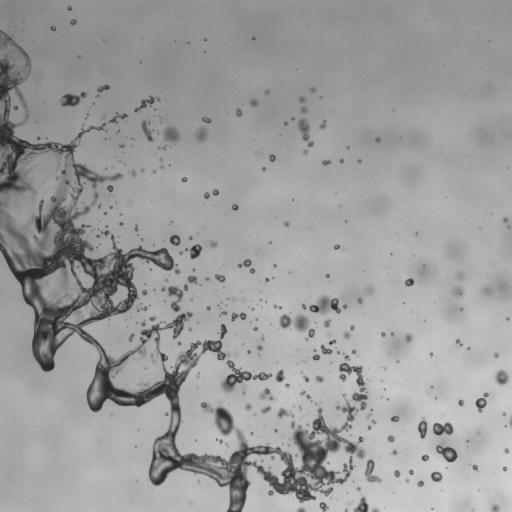droplet: (161, 275, 197, 311), (308, 295, 341, 314), (353, 496, 379, 511), (436, 445, 457, 462), (163, 125, 180, 144), (475, 392, 488, 412), (433, 422, 453, 435), (238, 259, 254, 273), (495, 369, 509, 385), (187, 244, 201, 258), (259, 388, 275, 400), (277, 407, 293, 418), (196, 126, 207, 141), (169, 234, 180, 245), (453, 286, 464, 297), (275, 370, 285, 382), (430, 471, 442, 481), (321, 345, 332, 354), (214, 274, 225, 282), (319, 502, 328, 511), (404, 333, 412, 343), (312, 349, 319, 360), (405, 278, 414, 286), (261, 406, 271, 413), (365, 286, 373, 294), (482, 287, 490, 295), (315, 375, 323, 383), (319, 120, 326, 129), (421, 454, 429, 461), (491, 504, 499, 511), (202, 117, 211, 123), (250, 99, 257, 106), (343, 331, 350, 338), (387, 435, 394, 442), (236, 108, 242, 116), (209, 241, 217, 247), (455, 273, 463, 279), (324, 319, 330, 327), (269, 154, 275, 161), (107, 185, 113, 192), (456, 339, 462, 346), (303, 375, 309, 382), (245, 403, 251, 410), (394, 470, 400, 477), (322, 160, 330, 165), (391, 416, 399, 421), (299, 97, 305, 103), (301, 107, 307, 113), (212, 189, 218, 195), (232, 204, 238, 210), (141, 289, 147, 295), (417, 480, 423, 486), (129, 333, 134, 340), (458, 399, 463, 406), (159, 145, 167, 149), (70, 19, 76, 24), (181, 177, 187, 182), (204, 192, 209, 198), (357, 297, 362, 303), (329, 339, 335, 344), (257, 344, 262, 350), (391, 450, 397, 455), (310, 87, 315, 92), (375, 137, 380, 142), (503, 217, 508, 222), (284, 221, 289, 226), (334, 244, 339, 249), (301, 304, 306, 309), (150, 316, 155, 321), (504, 448, 509, 453), (472, 465, 477, 470), (220, 311, 226, 315), (217, 439, 223, 443), (303, 149, 307, 154), (131, 171, 135, 176), (141, 321, 145, 326), (350, 325, 354, 330), (326, 332, 331, 336), (351, 350, 356, 354), (494, 352, 498, 357), (67, 6, 71, 10), (51, 26, 55, 30), (265, 90, 269, 94), (13, 105, 17, 109), (343, 304, 347, 308), (206, 306, 210, 310), (381, 332, 385, 336), (260, 336, 264, 340), (177, 341, 181, 345), (429, 352, 433, 356), (503, 467, 507, 471), (409, 470, 413, 474), (405, 478, 409, 482), (134, 226, 137, 231), (284, 121, 287, 125), (120, 144, 124, 147), (265, 277, 268, 281), (231, 297, 235, 300), (254, 327, 257, 331), (285, 383, 288, 387), (342, 394, 346, 397), (371, 420, 375, 423), (291, 117, 294, 120), (340, 159, 343, 162), (358, 159, 361, 162), (262, 167, 265, 170), (152, 170, 155, 173), (119, 222, 122, 225), (189, 236, 192, 239), (326, 274, 329, 277), (247, 350, 250, 353), (368, 426, 371, 429), (357, 487, 360, 490), (160, 166, 163, 168), (180, 251, 182, 254), (206, 277, 208, 280), (188, 328, 191, 330), (391, 332, 393, 335), (337, 351, 340, 353), (196, 374, 199, 376), (503, 412, 505, 415), (274, 429, 277, 431), (226, 443, 228, 446), (117, 130, 119, 132), (37, 137, 39, 139), (98, 205, 100, 207), (110, 206, 112, 208), (104, 212, 106, 214), (166, 278, 168, 280), (299, 407, 301, 409)
ligament: (0, 30, 368, 511), (279, 314, 315, 340), (298, 118, 313, 147), (134, 96, 160, 112), (365, 459, 381, 482), (60, 92, 86, 106), (141, 120, 153, 141), (418, 418, 427, 438), (110, 113, 127, 123), (231, 312, 246, 321), (97, 84, 109, 93), (300, 391, 312, 400), (150, 355, 156, 364), (366, 410, 372, 418), (273, 304, 281, 309), (296, 507, 306, 511), (138, 306, 147, 310), (508, 416, 511, 427), (344, 510, 347, 511)
